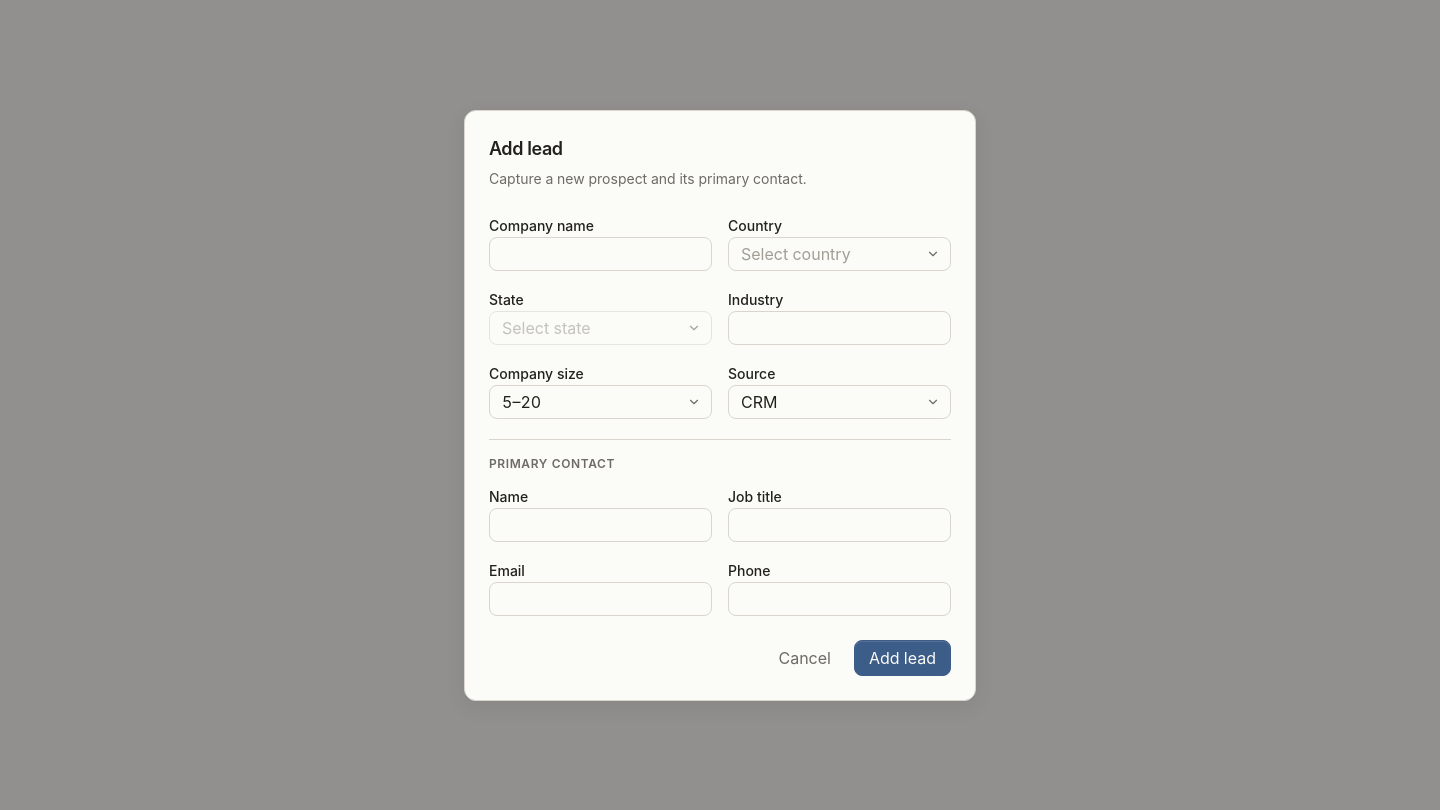
Test case: CreateLeadModal › filters country and state options by search text
Click the dropdown labelled "Select country" at (840, 254), box [728, 236, 951, 270]
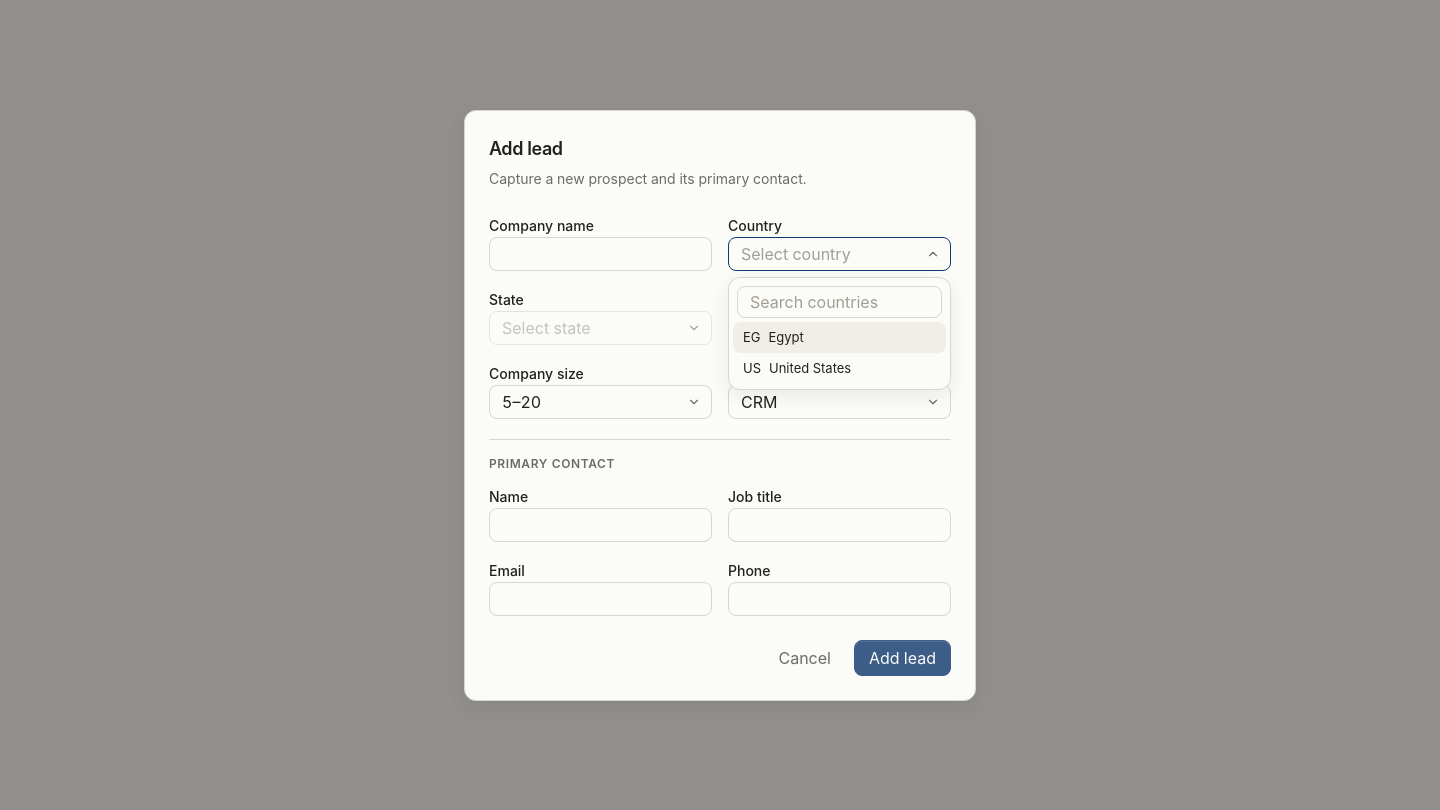
Type "egy" into the field labelled "Search countries" at (840, 302), box [737, 286, 942, 318]
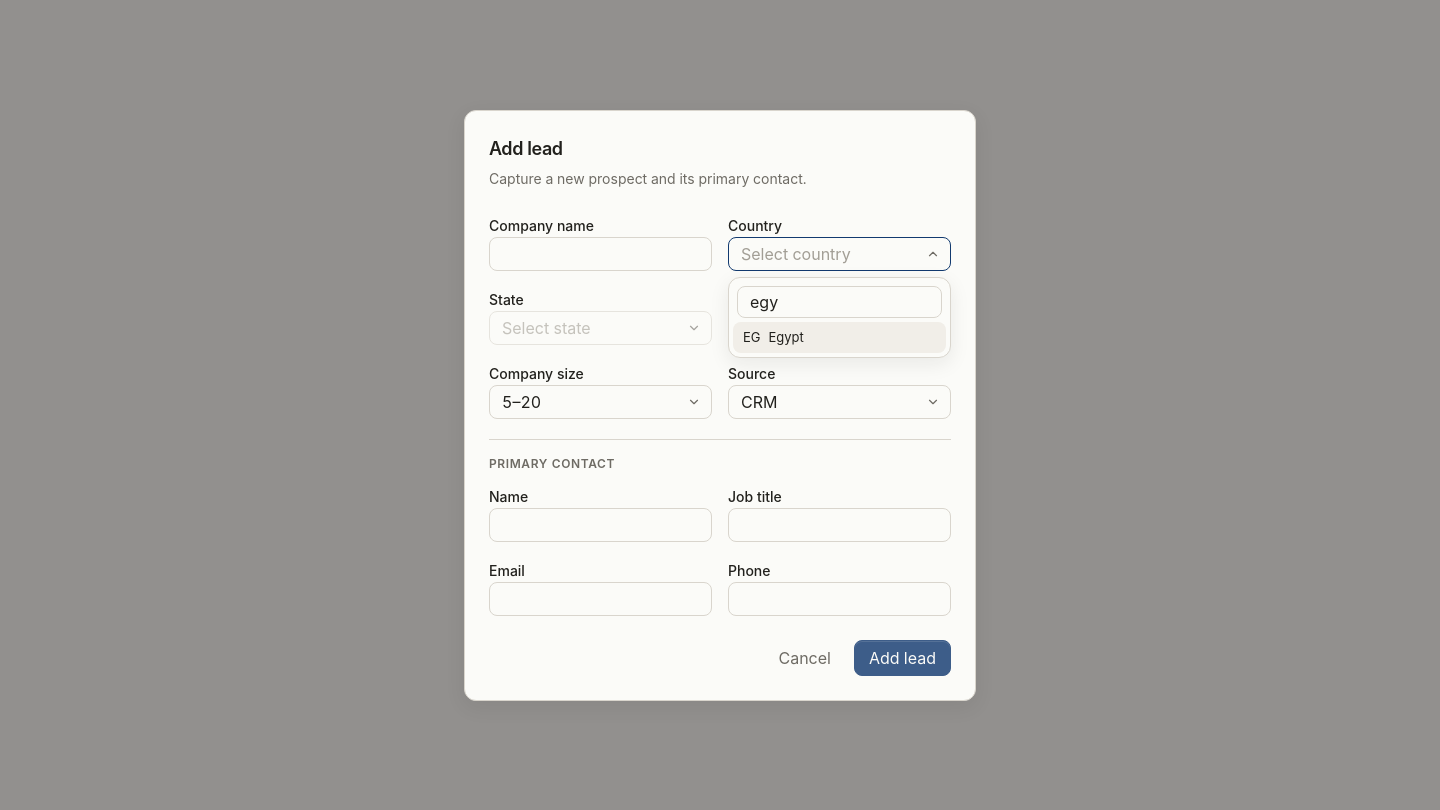
Check: the option "EG Egypt" is shown
Check: the option "United States" is gone
Click the option "EG Egypt" at (840, 337), box [733, 322, 946, 353]
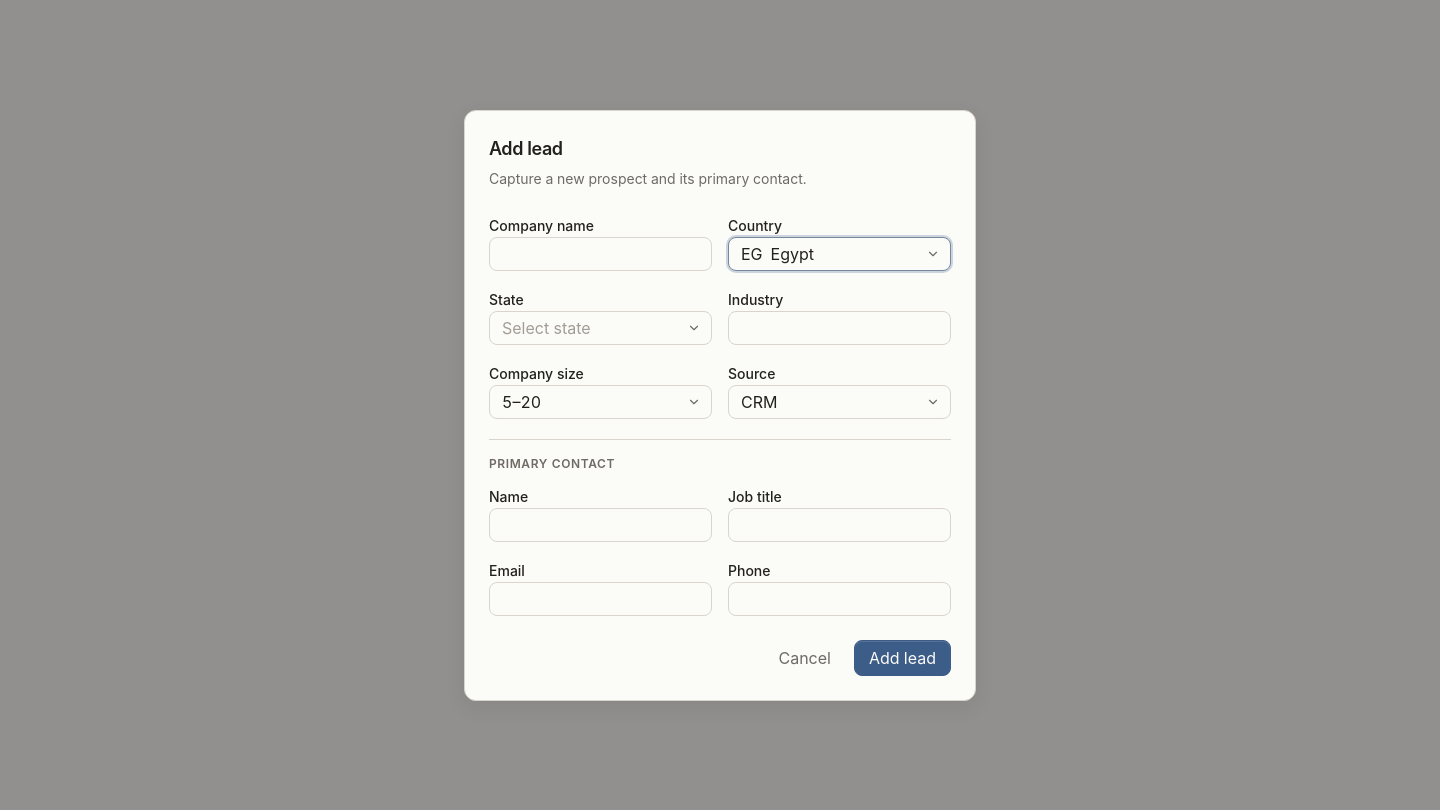
Click the dropdown labelled "Select state" at (600, 328), box [489, 310, 712, 344]
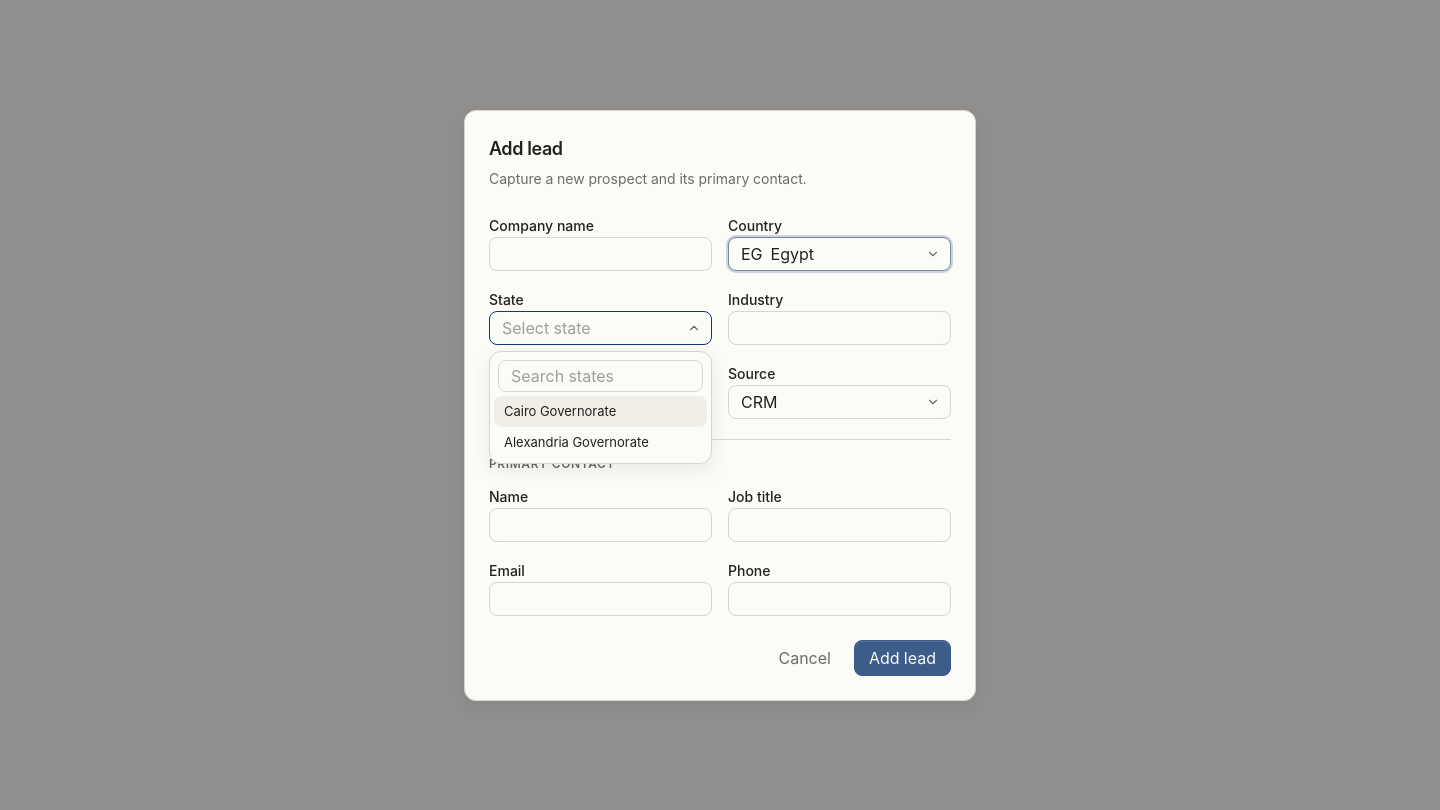
Type "alex" into the field labelled "Search states" at (600, 376), box [498, 360, 703, 392]
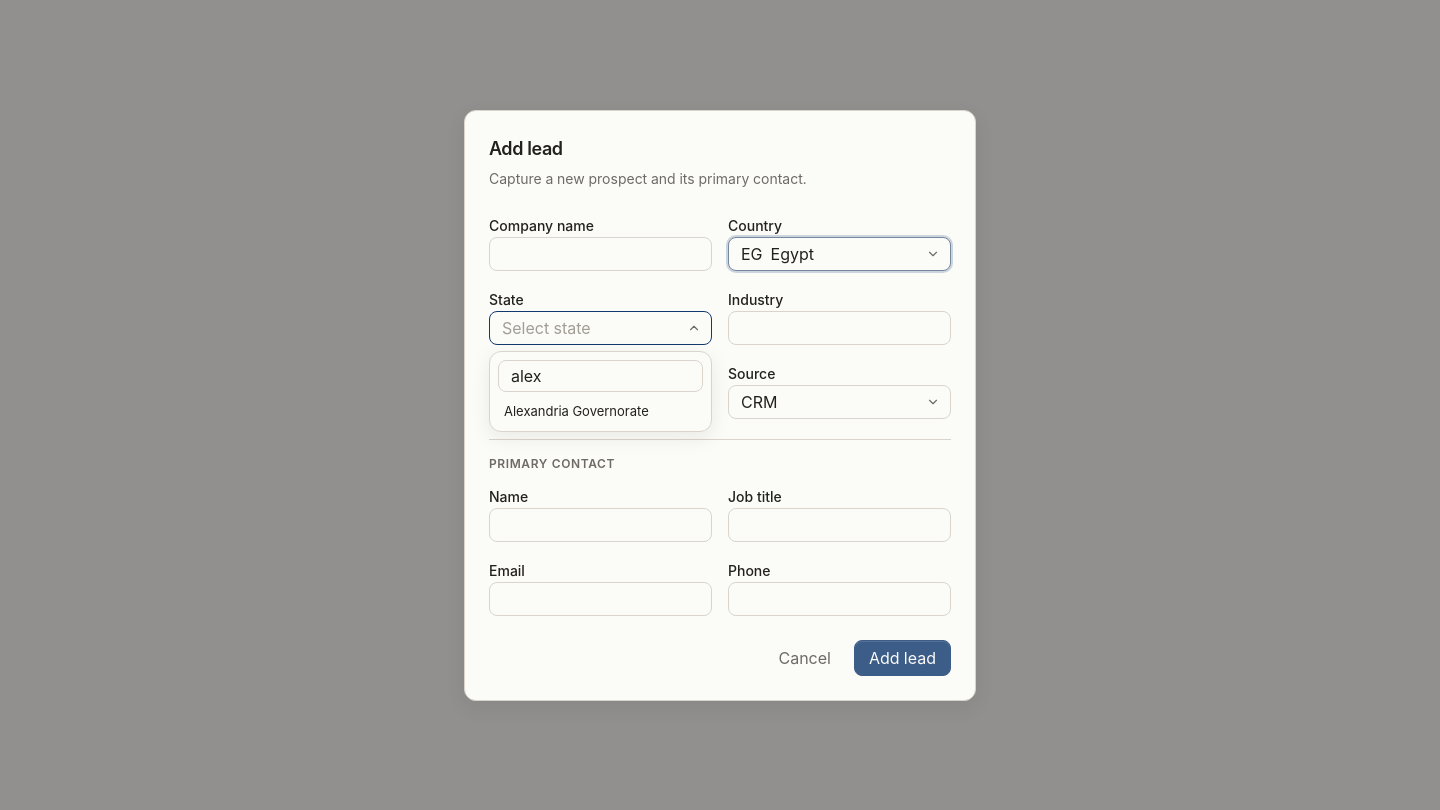
Check: the option "Alexandria Governorate" is shown, box [504, 402, 649, 418]
Check: the option "Cairo Governorate" is gone
